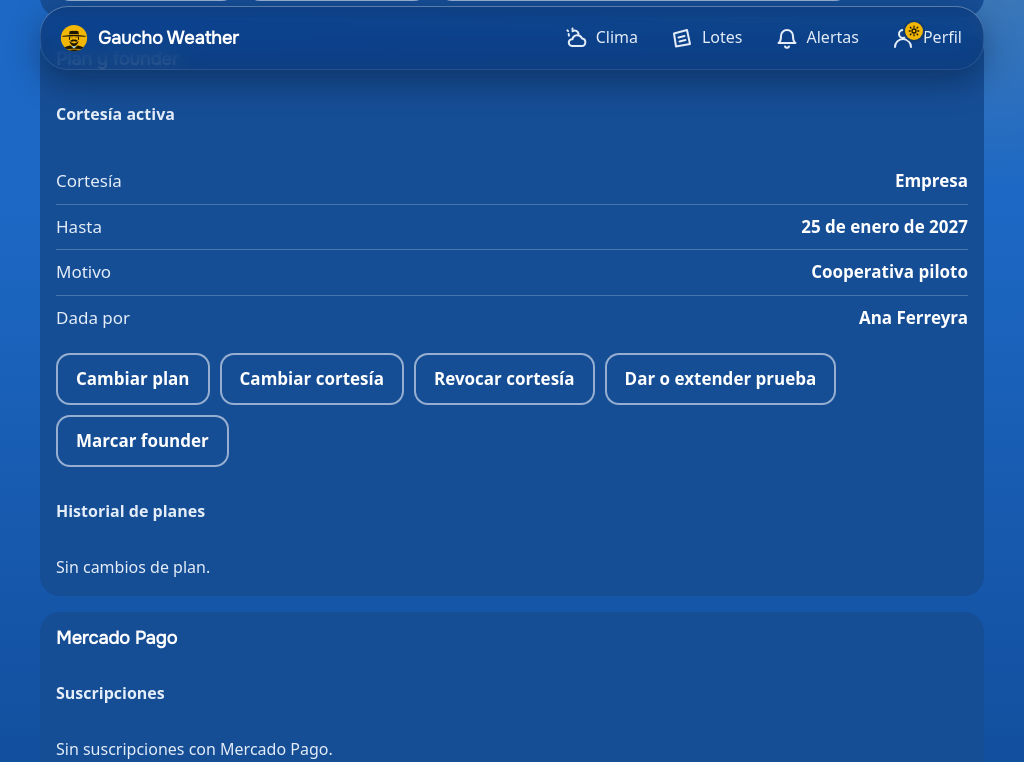
The plan change only goes down (S5) › ends an active cortesía when moving down to Básico
(page scrolled)
What coordinates should you click on to do the following:
click the button "Cambiar plan"
I would click on:
 (133, 379)
Its box is [56,353,210,405].
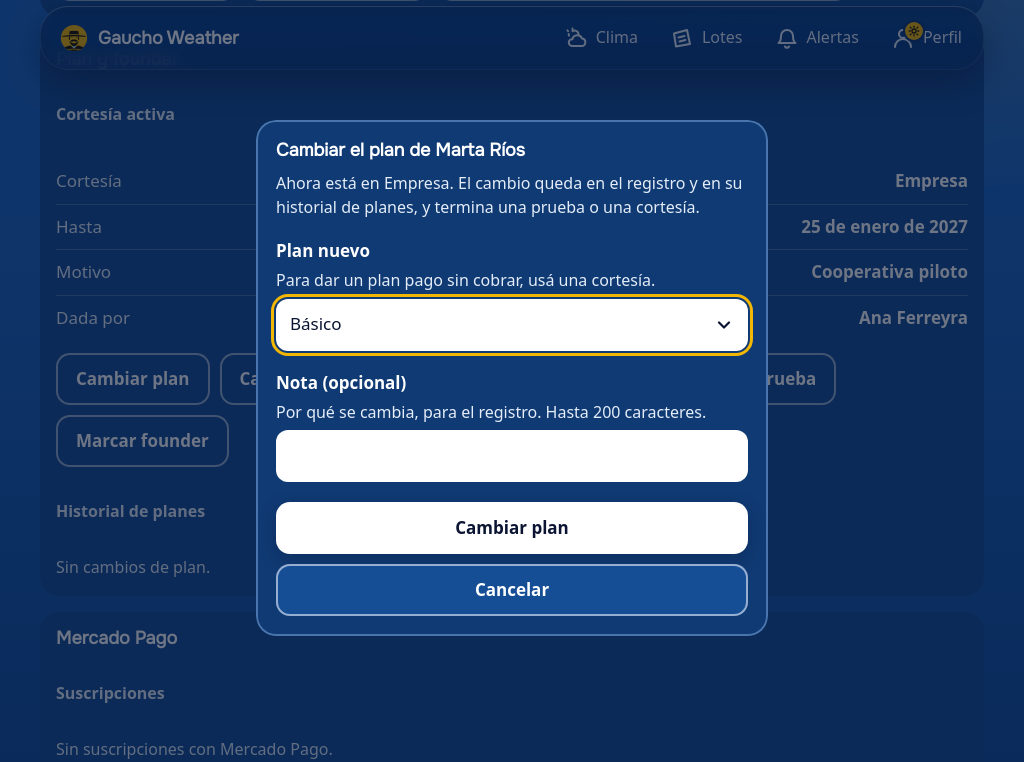
What coordinates should you click on to do the following:
click the button "Cambiar plan"
I would click on:
 (512, 528)
Its box is [276,502,748,554].
(page scrolled)
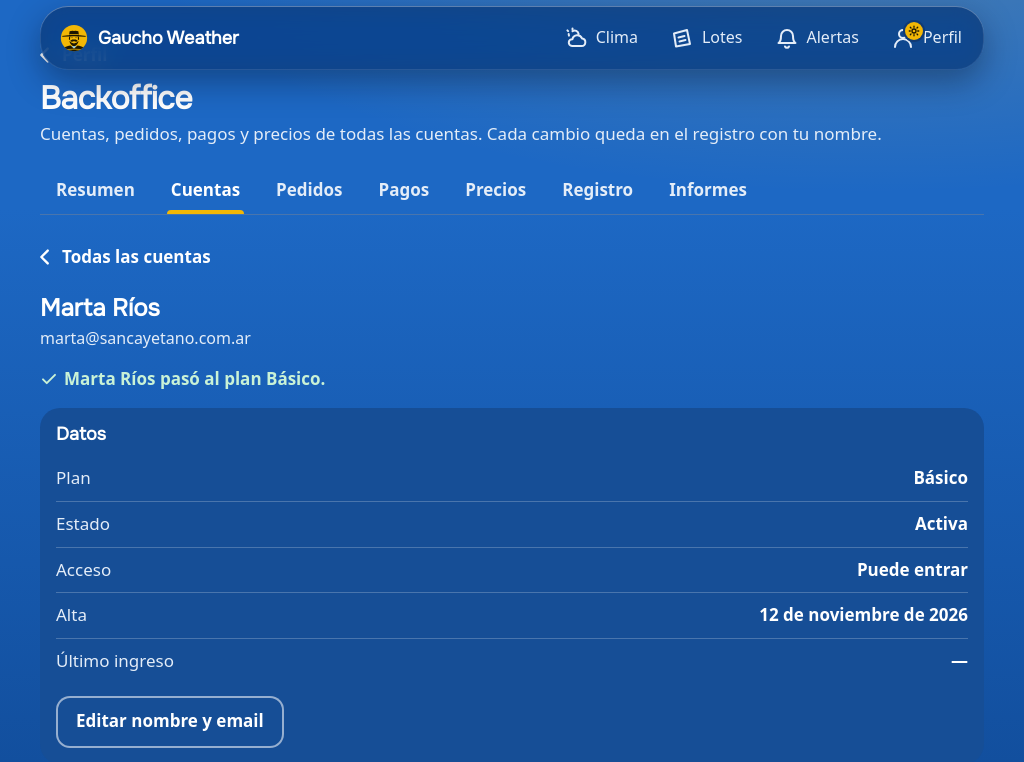
Expected: the text "Marta Ríos pasó al plan Básico." is shown, [40,367,325,390]
Expected: the button "Revocar cortesía" is gone
